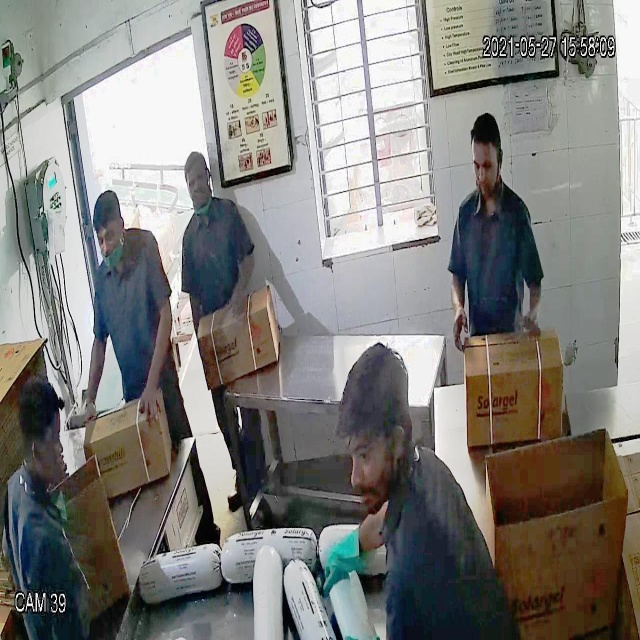Sin_gafas: (466, 152, 511, 183), (89, 224, 129, 254)
